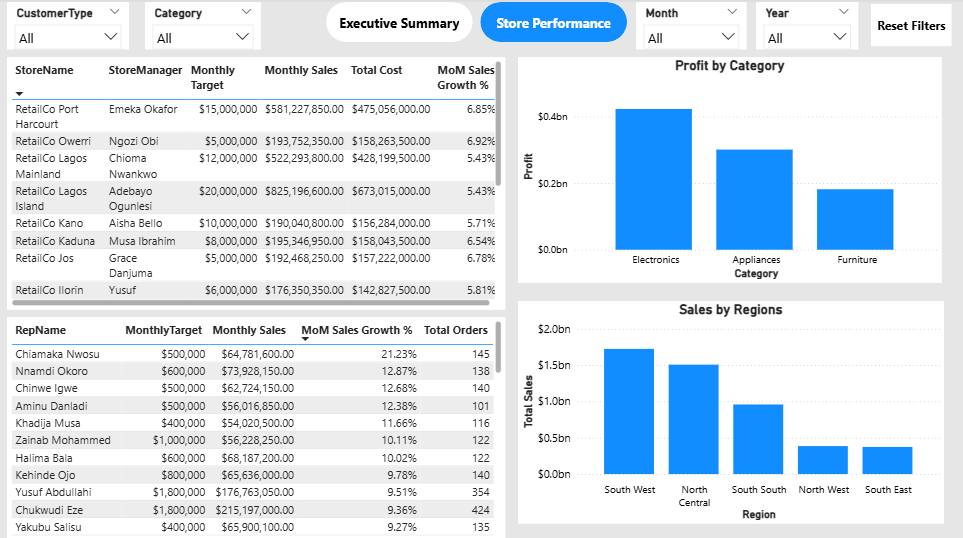

The dashboard page shown, as its layout file describes it:
{"tool":"powerbi","page":{"name":"Store Performance","canvas":[1280,720],"ordinal":1},"visuals":[{"type":"clusteredColumnChart","title":"Sales by Regions","fields":{"Y":["Measure.Total Sales"],"Category":["Stores.Region"]},"box":[689.5,401.9,565.7,295.9],"z":0},{"type":"clusteredColumnChart","fields":{"Category":["Products.Category"],"Y":["Measure.Profit"]},"box":[689.5,78.5,562.9,300],"z":1000},{"type":"tableEx","fields":{"Values":["SalesReps.RepName","Sum(SalesReps.MonthlyTarget)","Measure.Monthly Sales","Measure.MoM Sales Growth %","Measure.Total Orders"]},"box":[11,423.9,662,295.9],"z":2000},{"type":"tableEx","fields":{"Values":["Stores.StoreName","Stores.StoreManager","Sum(Stores.MonthlyTarget)","Measure.Monthly Sales","Measure.Total Cost","Measure.MoM Sales Growth %"]},"box":[11,78.5,662,335.8],"z":3000},{"type":"slicer","fields":{"Values":["Calendar.MonthName"]},"box":[846.5,5.5,147.3,63.3],"z":4000},{"type":"slicer","fields":{"Values":["Calendar.Year"]},"box":[1006.1,5.5,136.3,63.3],"z":5000},{"type":"slicer","fields":{"Values":["Customers.CustomerType"]},"box":[11,5.5,162.4,63.3],"z":6000},{"type":"slicer","fields":{"Values":["Products.Category"]},"box":[194.1,5.5,154.2,63.3],"z":7000},{"type":"pageNavigator","box":[434.9,5.5,400.5,53.7],"z":8000},{"type":"actionButton","box":[1158.9,8.3,107.4,56.4],"z":9000}]}

Visuals, with their boxes in screenshot pixels (x1, y1, x2, y2), scaled from the page's 1280x720 canvas onto the 963x538 screenshot:
"Sales by Regions" clusteredColumnChart: 519 300 944 521
clusteredColumnChart - Products.Category x Measure.Profit: 519 59 942 283
tableEx - SalesReps.RepName x Sum(SalesReps.MonthlyTarget): 8 317 506 537
tableEx - Stores.StoreName x Stores.StoreManager: 8 59 506 310
slicer - Calendar.MonthName: 637 4 748 51
slicer - Calendar.Year: 757 4 859 51
slicer - Customers.CustomerType: 8 4 130 51
slicer - Products.Category: 146 4 262 51
pageNavigator: 327 4 629 44
actionButton: 872 6 953 48
